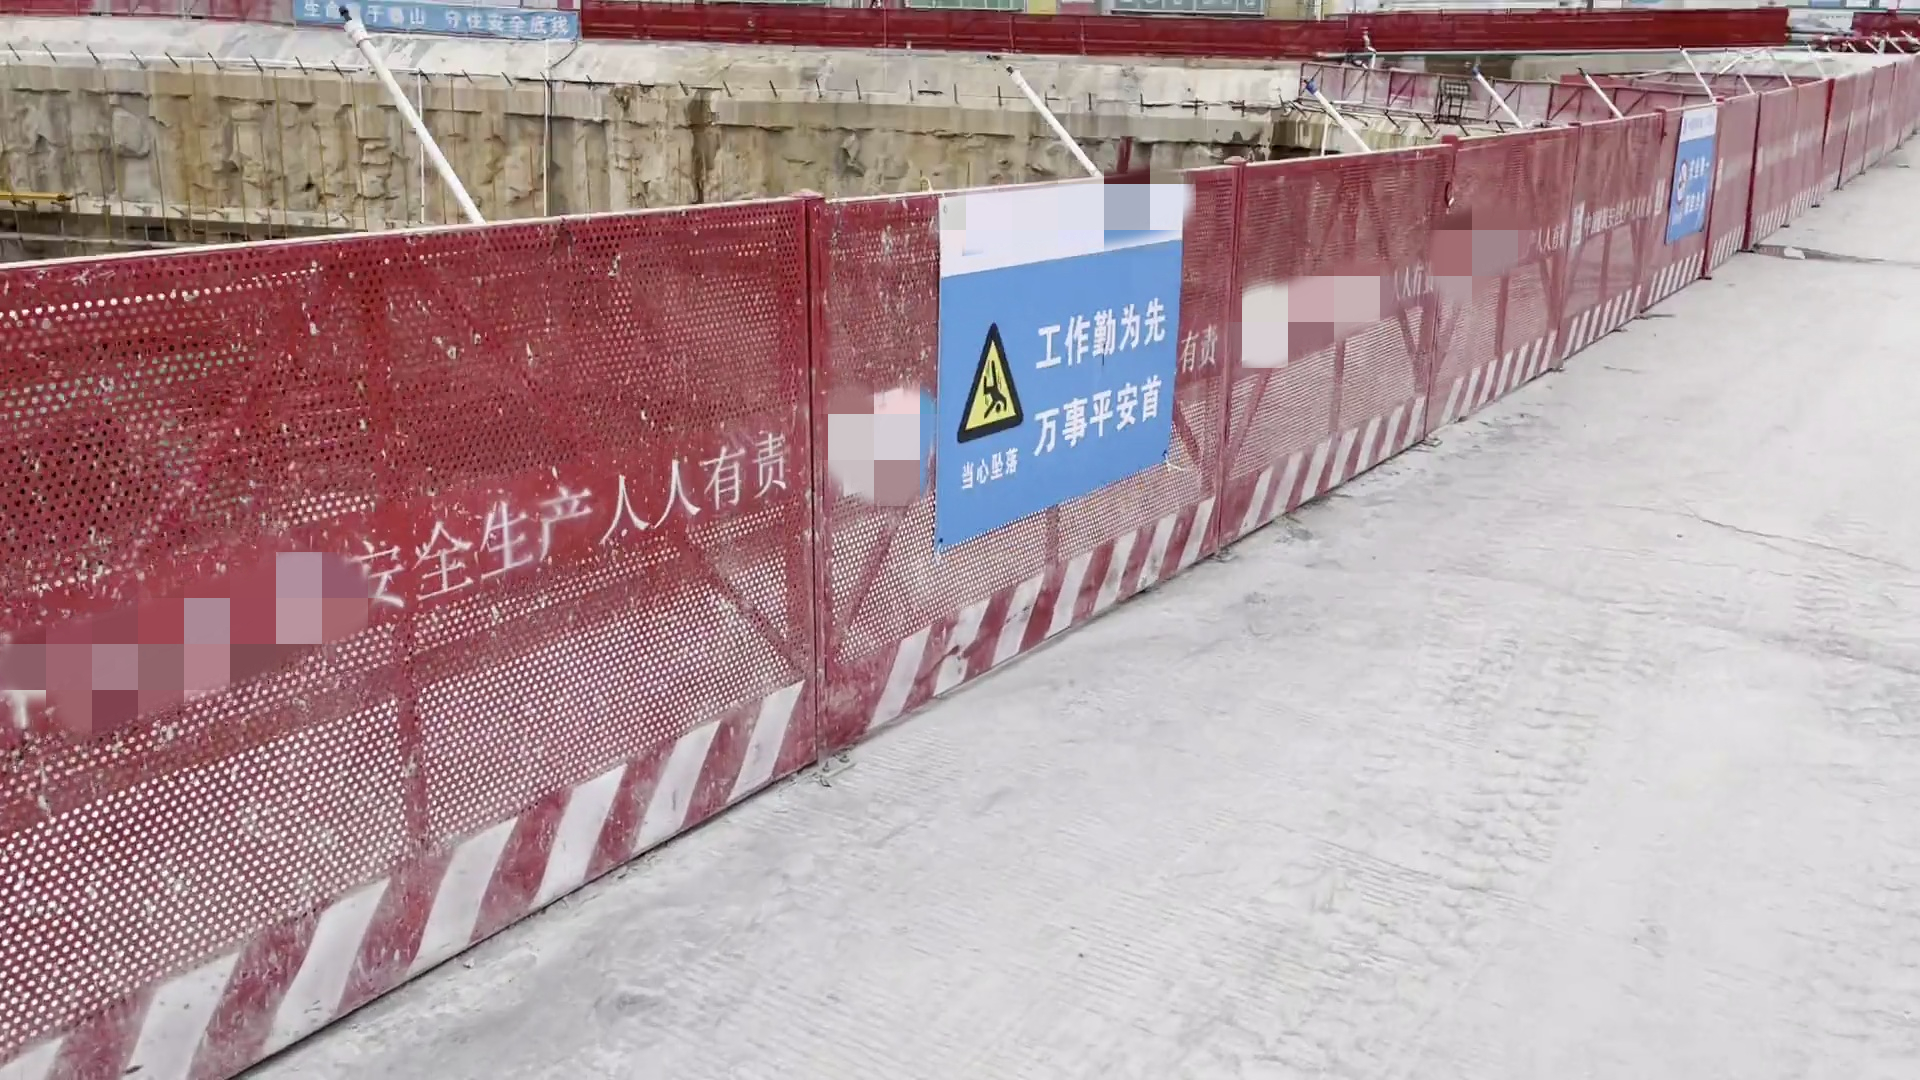fence: (7, 37, 1920, 1073), (1, 1, 1920, 55)
slogan: (348, 427, 790, 615), (307, 1, 574, 42)
